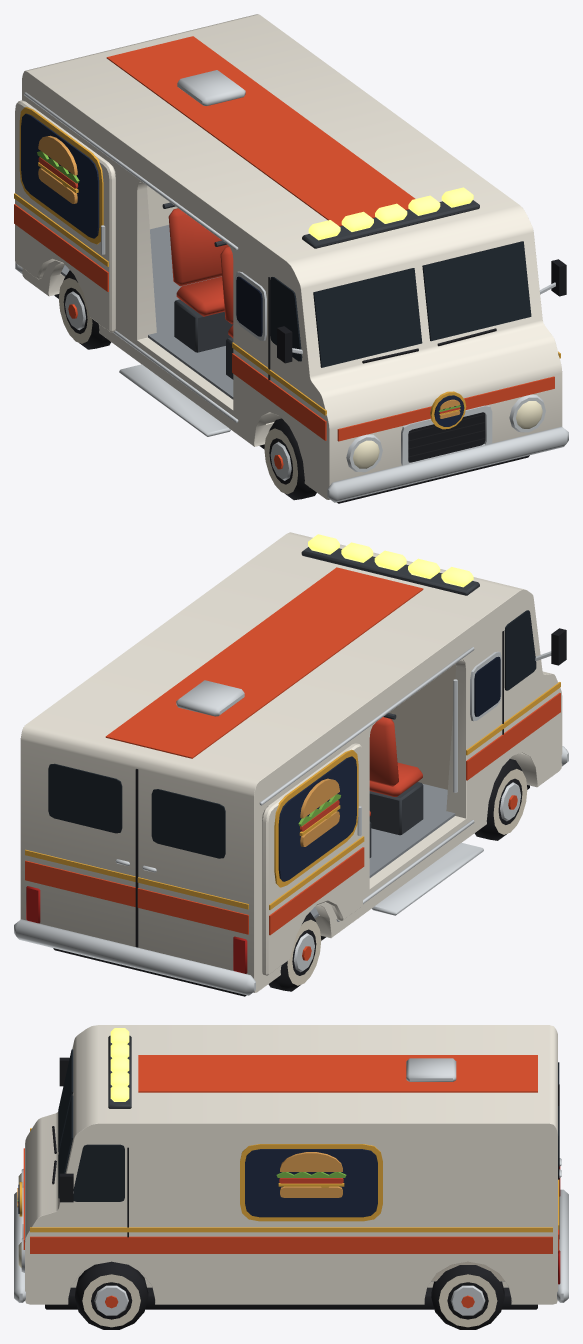
Rendered from Lobby_ShiftVan.fbx.
3 views of the same model, one above another, from view 1: azimuth 30°, elevation 25°; view 2: azimuth 150°, elevation 25°; view 3: azimuth 270°, elevation 25° (orthographic). The views are drawn at different scales.
Visible parts, largest first — view 1: Body, Stripe, Glass, Chrome, Rubber, Seats, BadgeNavy, CargoFloor, Mustard, SeatFrames, Lights, LightBarBase (+4 smaller); view 2: Body, Stripe, Chrome, Glass, Lining, Mustard, BadgeNavy, Rubber, CargoFloor, Seats, Lights, SeatFrames (+4 smaller); view 3: Body, Stripe, Rubber, BadgeNavy, Mustard, Chrome, Glass, Whitewall, IconBun, Lights, LightBarBase, IconTomato.
Boxes of the visible parts, x1,y1,x2,y2 form: Body: (15, 14, 562, 499); Stripe: (14, 36, 554, 441); Glass: (270, 241, 531, 367); Chrome: (15, 70, 568, 502); Rubber: (54, 259, 566, 503); Seats: (168, 208, 233, 337); BadgeNavy: (21, 113, 464, 426); CargoFloor: (60, 225, 233, 399); Mustard: (14, 107, 560, 429); SeatFrames: (162, 202, 233, 379); Lights: (308, 187, 473, 240); LightBarBase: (302, 200, 479, 248); Body: (20, 532, 562, 992); Stripe: (25, 567, 560, 935); Chrome: (14, 647, 568, 995); Glass: (48, 610, 536, 858); Lining: (389, 664, 455, 789); Mustard: (25, 682, 560, 909); BadgeNavy: (278, 756, 356, 881); Rubber: (53, 628, 566, 996); CargoFloor: (310, 783, 455, 918); Seats: (369, 717, 422, 816); Lights: (308, 534, 473, 587); SeatFrames: (369, 713, 423, 857); Body: (25, 1025, 557, 1304); Stripe: (23, 1055, 559, 1253); Rubber: (45, 1057, 559, 1329); BadgeNavy: (18, 1149, 377, 1217); Mustard: (17, 1128, 559, 1232); Chrome: (14, 1058, 568, 1315); Glass: (58, 1049, 559, 1201); Whitewall: (82, 1274, 497, 1327); IconBun: (17, 1152, 342, 1207); Lights: (110, 1028, 129, 1101); LightBarBase: (108, 1035, 131, 1108); IconTomato: (17, 1178, 343, 1202).
Size of the model in its own units: 846 by 744 by 1666.
